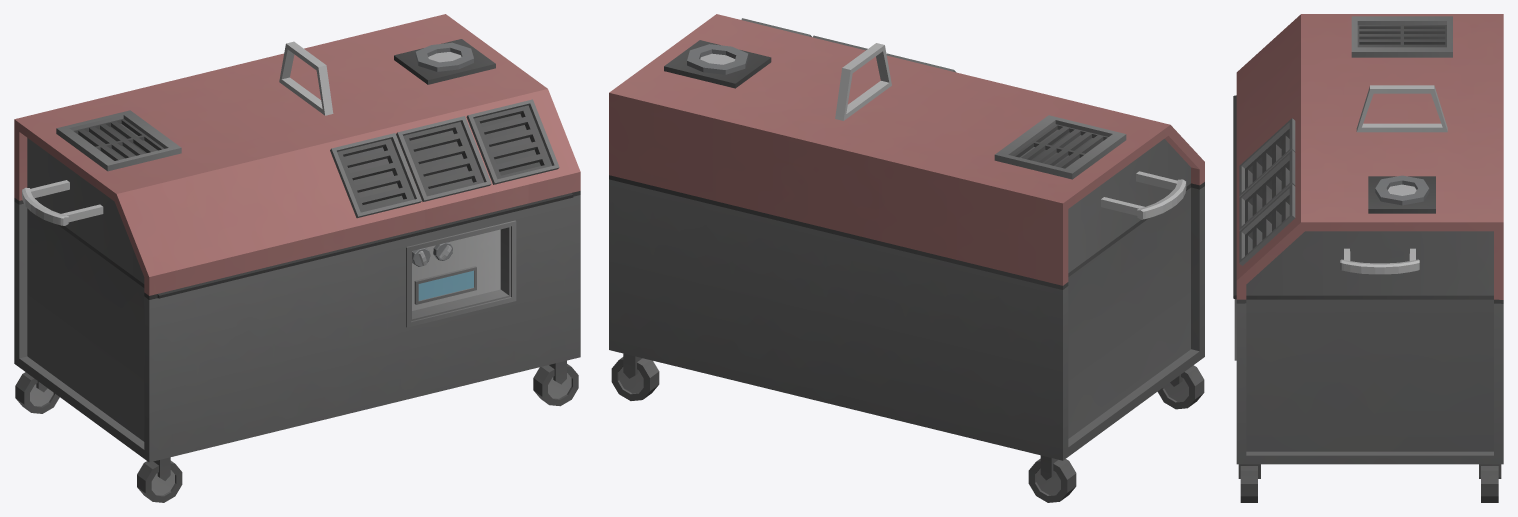
File: generator_1.dae
The picture shows the model from 3 angles, left to right: view 1: azimuth 30°, elevation 25°; view 2: azimuth 150°, elevation 25°; view 3: azimuth 270°, elevation 25°; orthographic projection. The views are drawn at different scales.
Visible parts, largest first — view 1: generator_body, wheel_3; view 2: generator_body, wheel_3; view 3: generator_body, wheel_3.
Part boxes in pixels (bbox=[...]): generator_body: bbox=[14, 14, 580, 480]; wheel_3: bbox=[15, 364, 578, 502]; generator_body: bbox=[609, 14, 1204, 480]; wheel_3: bbox=[611, 357, 1204, 502]; generator_body: bbox=[1233, 14, 1503, 478]; wheel_3: bbox=[1240, 466, 1498, 502].
Size of the model in its own units: 2.03 by 0.9487 by 1.28.
